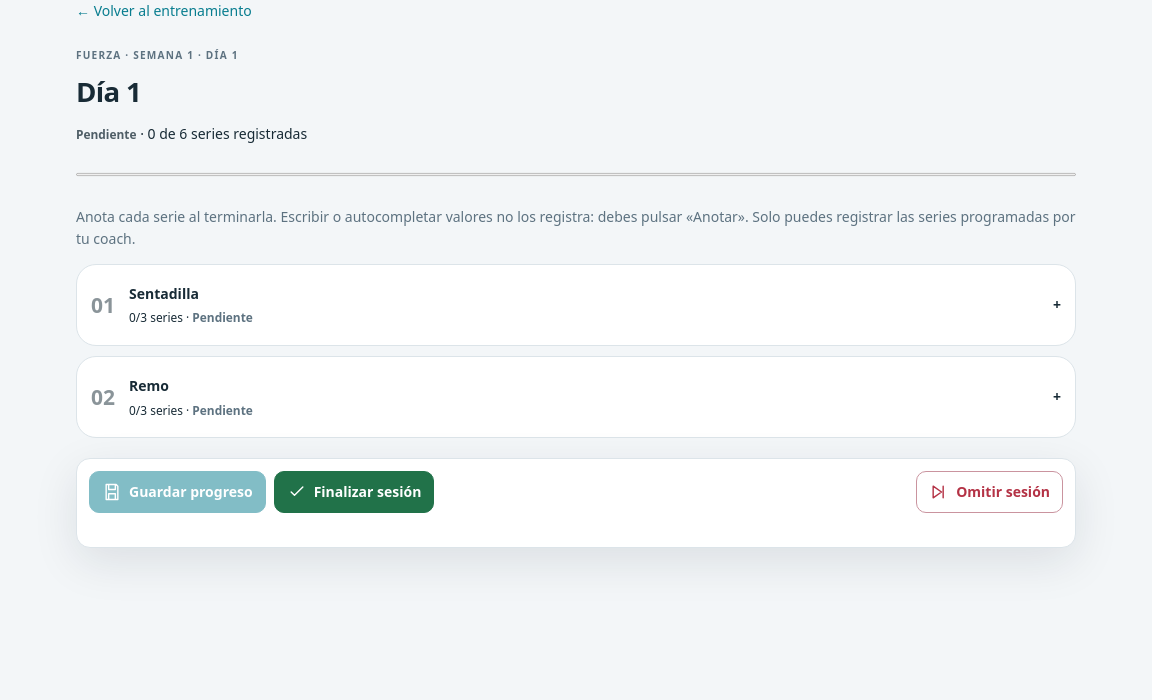
Scenario: Ejecución compacta y registro seguro › al finalizar advierte sobre valores escritos sin confirmar
This screenshot has width=1152, height=700.
Click the button "01 Sentadilla 0/3 series · Pendiente +": (164, 293) [89,273,1063,337]
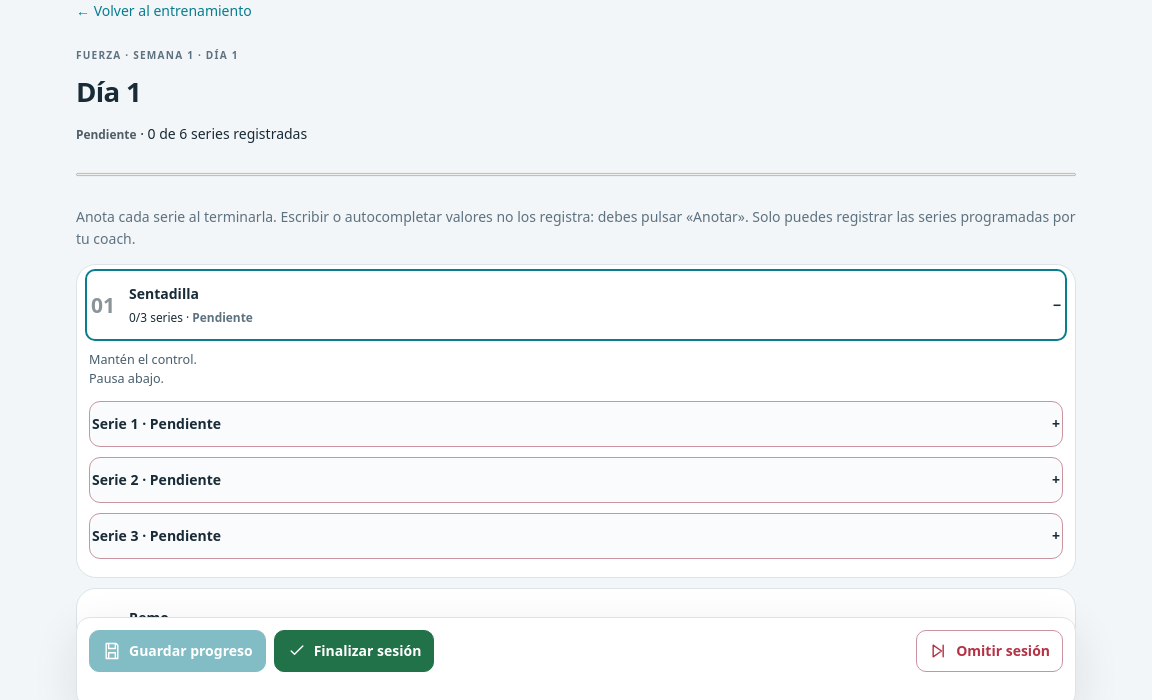
Click the button "Serie 1 · Pendiente +": (111, 424) [90,402,1062,446]
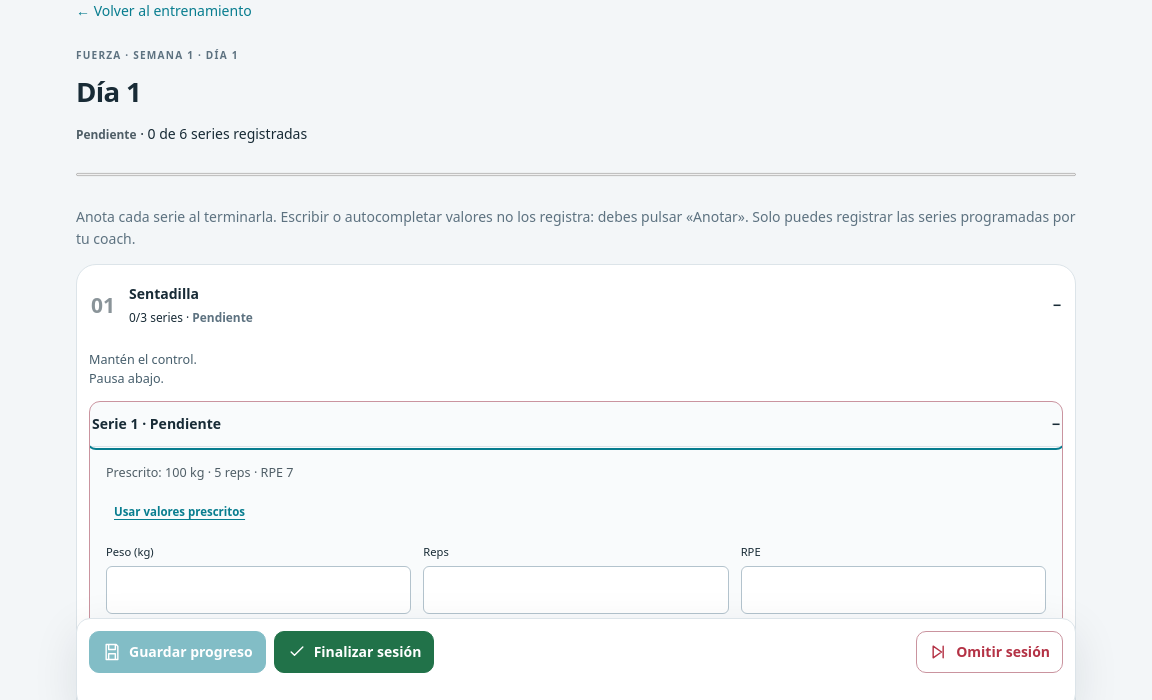
In the number field labelled "Peso (kg)": (259, 590) [106,566,411,614], type "90"
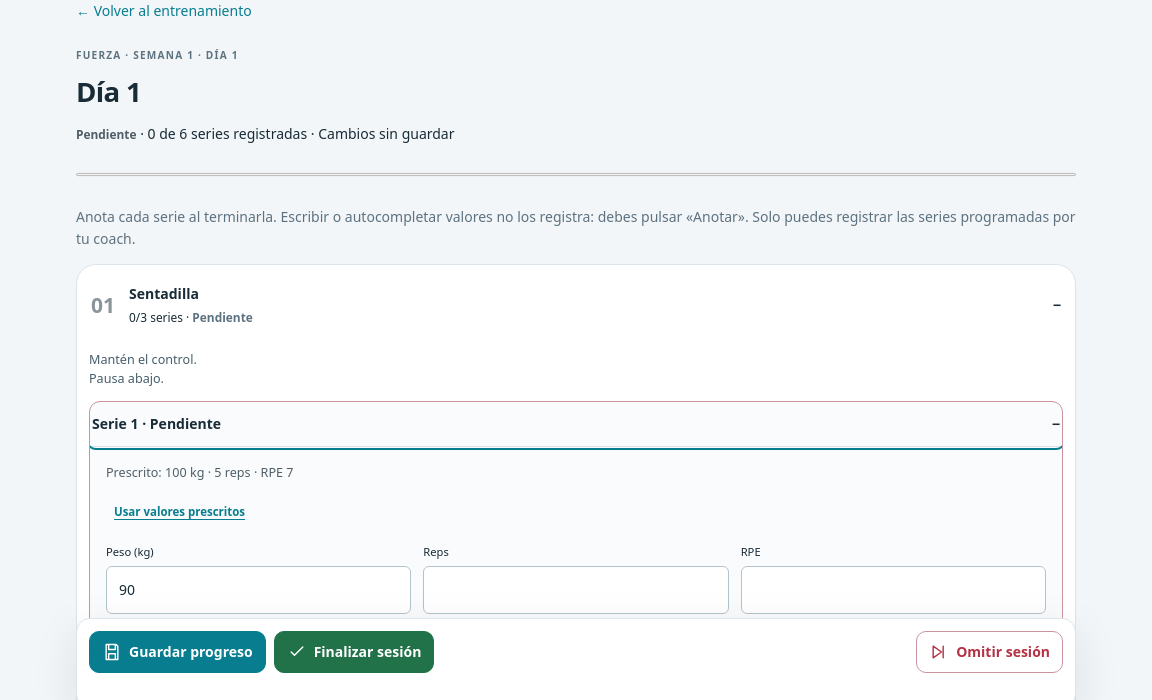
Click the button "Finalizar sesión": (354, 652) [274,631,434,673]
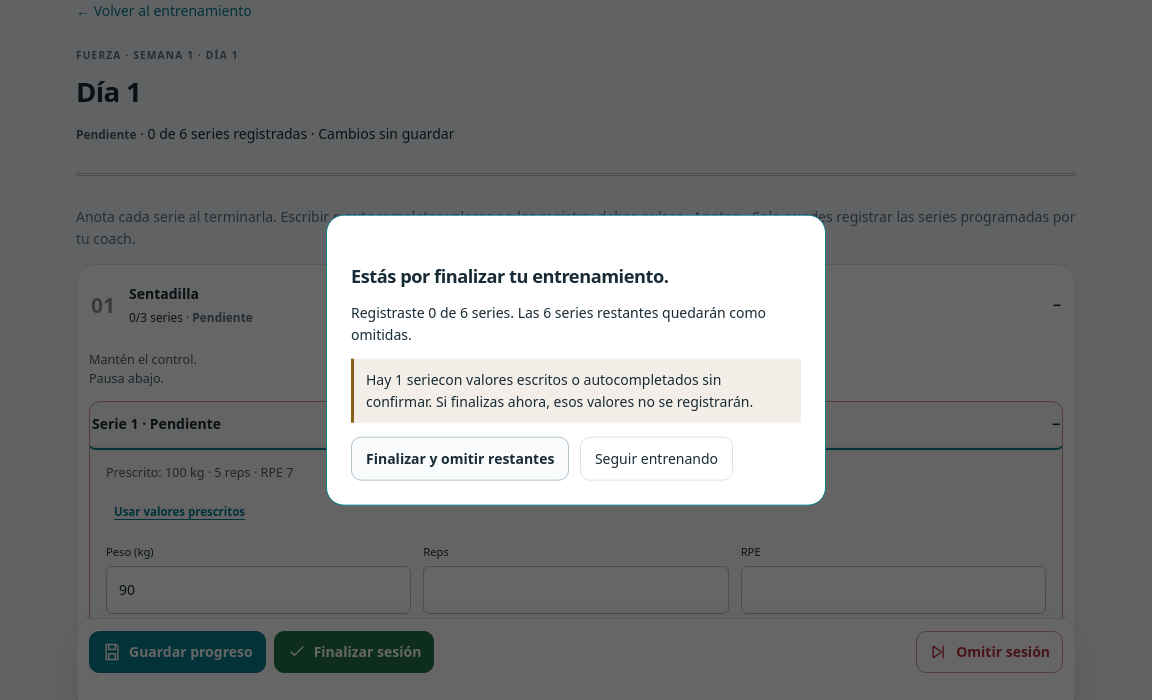
Now the text "valores escritos o autocompletados sin confirmar" is shown, box [366,370,753,411]
Now the button "Seguir entrenando" is shown, box [580,436,733,480]
